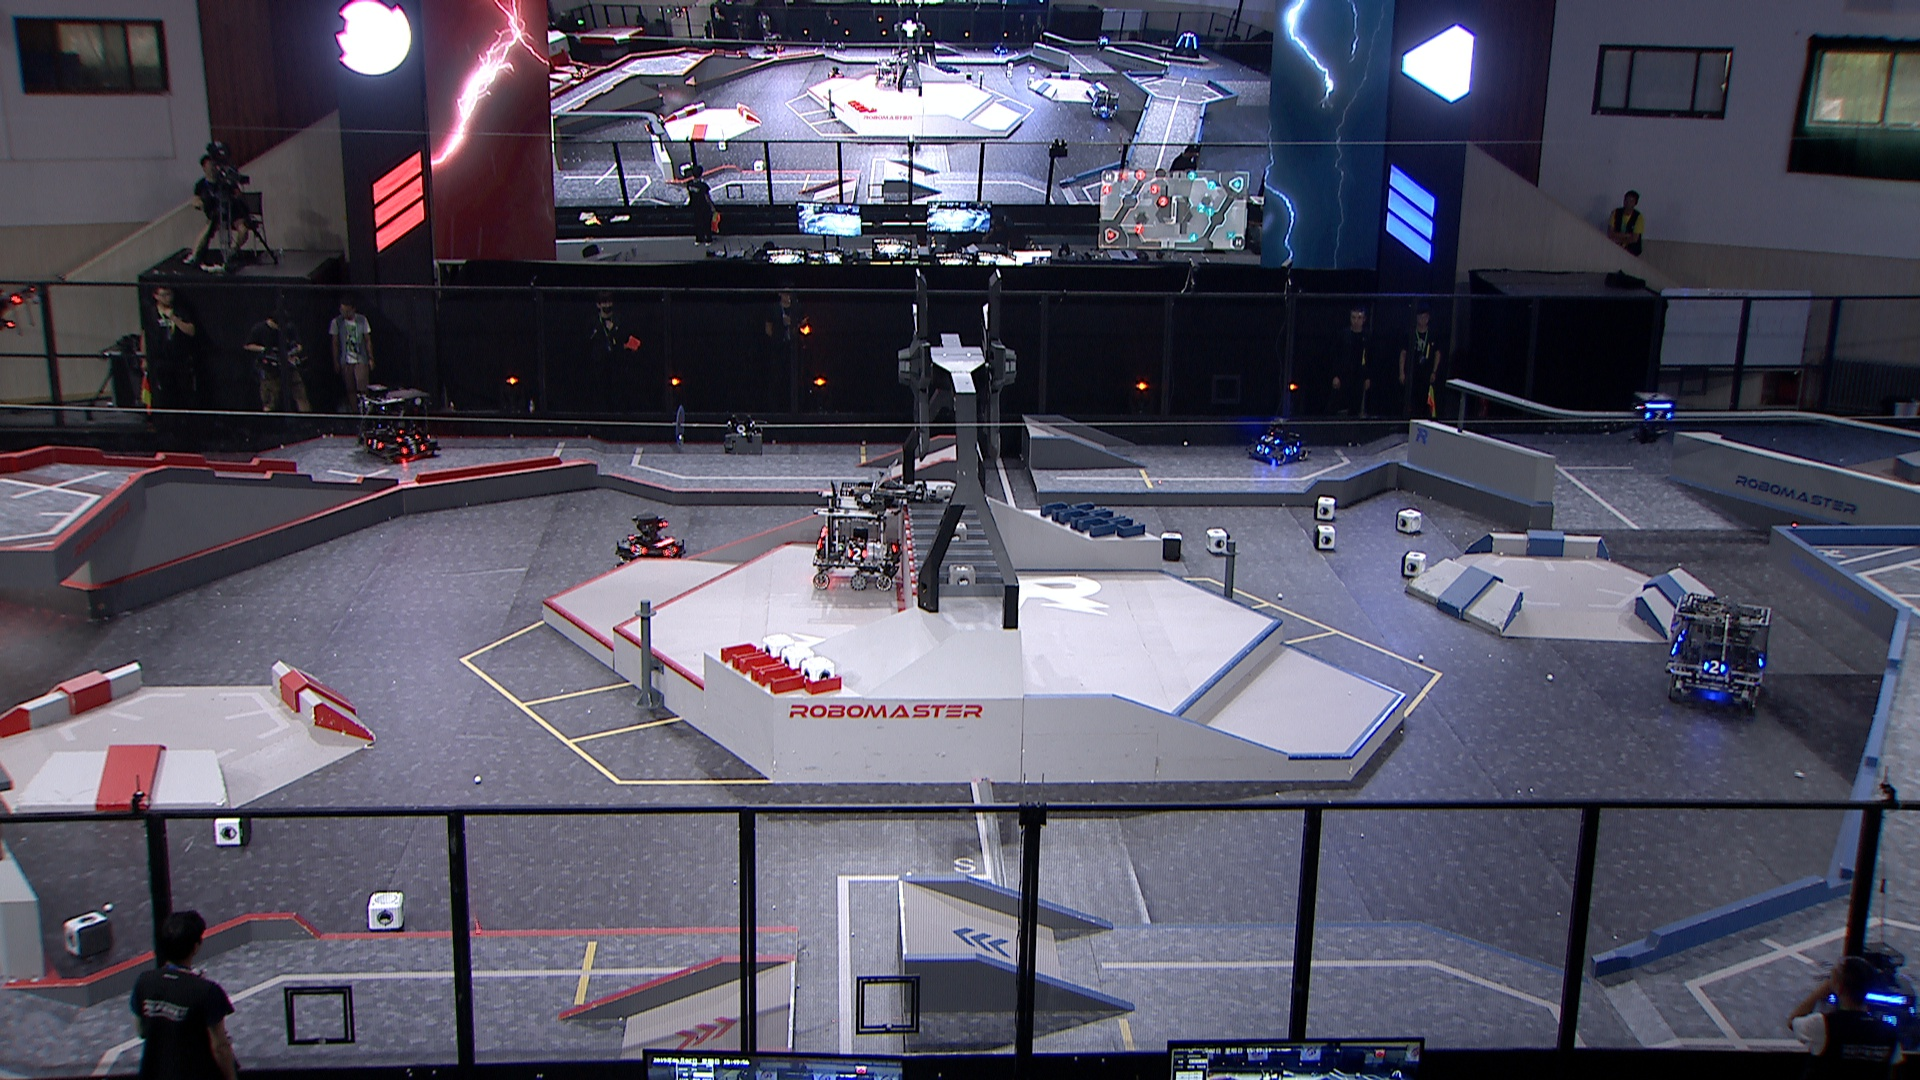armor: (396, 438, 430, 455), (1700, 659, 1727, 678), (1643, 406, 1673, 422), (392, 429, 419, 444), (845, 546, 869, 562), (628, 542, 647, 559), (659, 542, 678, 559), (365, 436, 385, 452), (1261, 433, 1280, 446), (1282, 444, 1300, 458), (1255, 440, 1269, 458)
car: (1658, 589, 1775, 703), (1817, 936, 1920, 1058), (807, 472, 909, 593), (356, 382, 442, 463), (612, 510, 688, 567), (1242, 417, 1311, 465)
ignore: (870, 57, 902, 87), (1171, 30, 1201, 61), (1091, 90, 1120, 121), (642, 111, 667, 140), (757, 33, 789, 53), (1092, 32, 1112, 58), (822, 65, 844, 79)
watcher: (1631, 389, 1677, 446)
